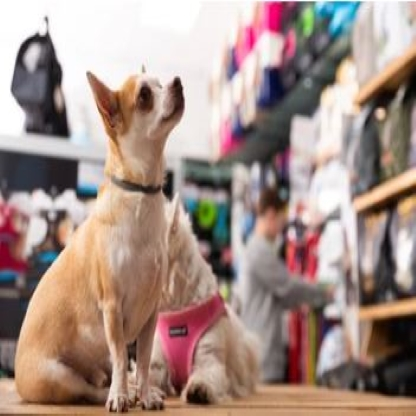chihuahua: (9, 61, 191, 413)
